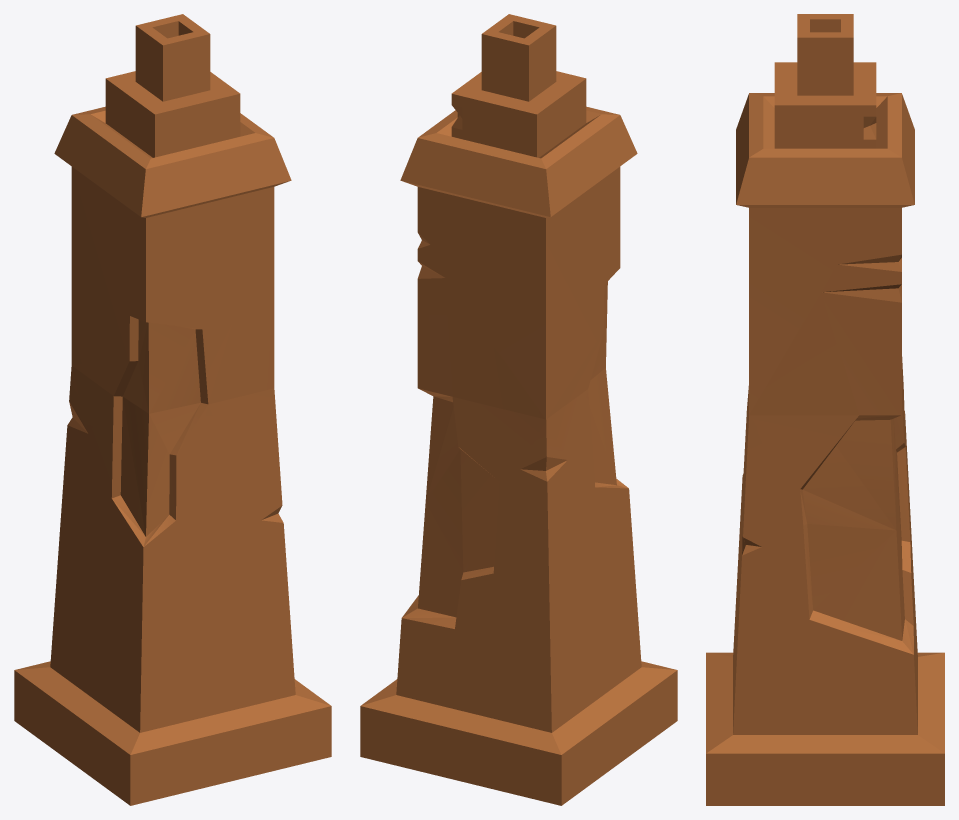
File: chimney.fbx
3 views of the same model, side by side, from view 1: azimuth 30°, elevation 25°; view 2: azimuth 150°, elevation 25°; view 3: azimuth 270°, elevation 25° (orthographic). The views are drawn at different scales.
Parts seen in each view (by area): view 1: chimney; view 2: chimney; view 3: chimney.
Boxes of the visible parts, x1=… form: chimney: x1=14, y1=14, x2=331, y2=805; chimney: x1=360, y1=14, x2=677, y2=805; chimney: x1=706, y1=14, x2=944, y2=805.
Size of the model in its own units: 166 by 560 by 166.
